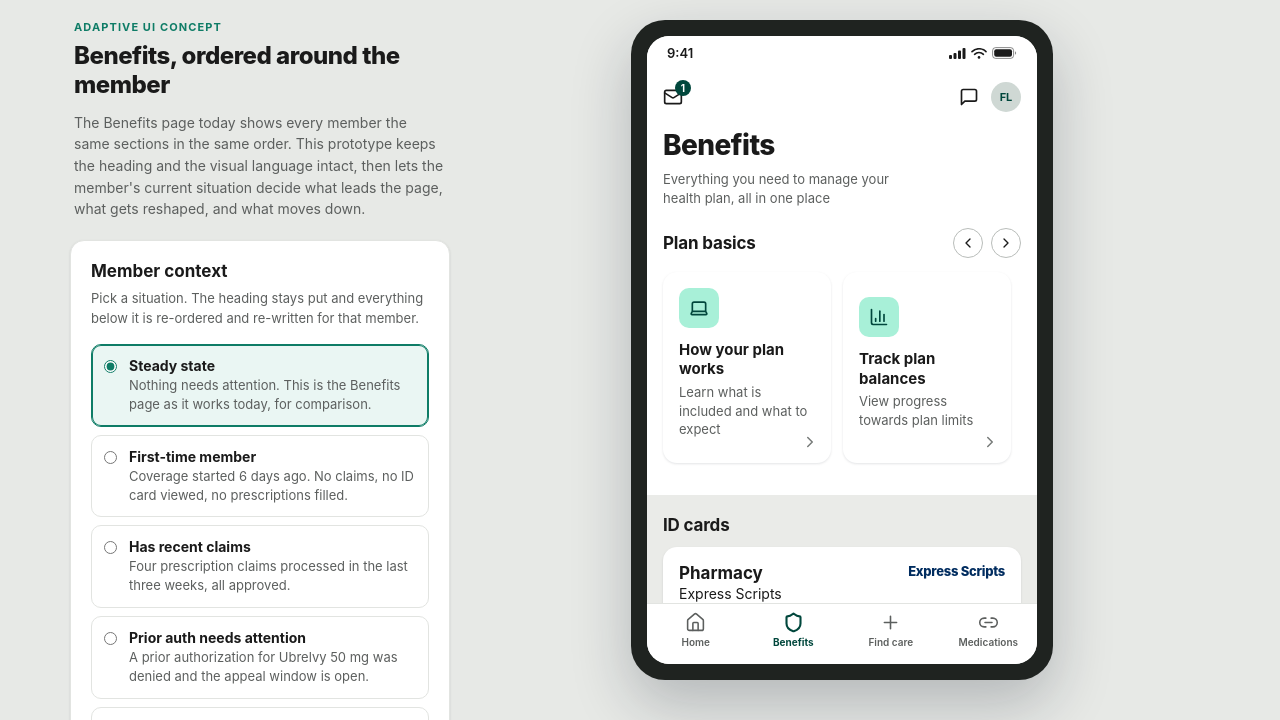
Scenario: App › shows helper text only on the next setup step for a first-time member
Click the radio button labelled "First-time member" at point(110, 457), box x1=104 y1=451 x2=117 y2=464
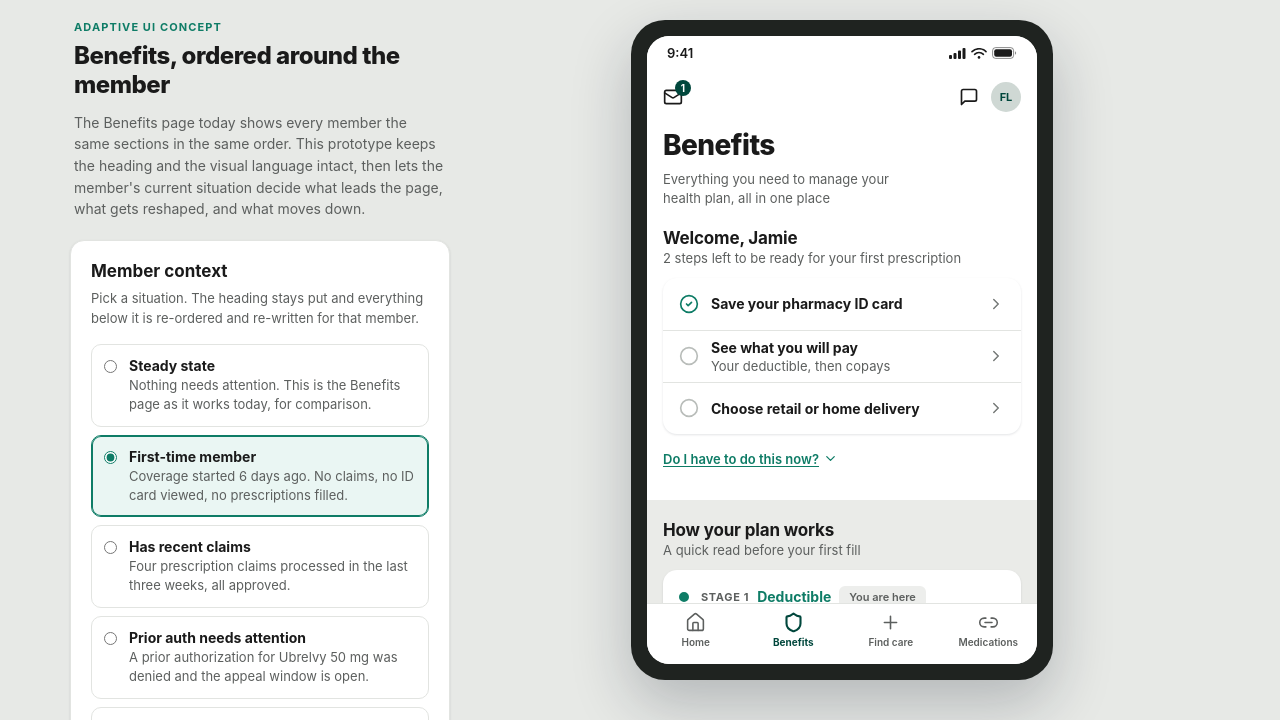
Expected: the text "skipping a step will not delay" is not shown
Expected: the text "Your deductible, then copays" is shown, x1=711 y1=358 x2=890 y2=374
Click the button "Do I have to do this now?" at point(750, 459), box x1=663 y1=442 x2=838 y2=476
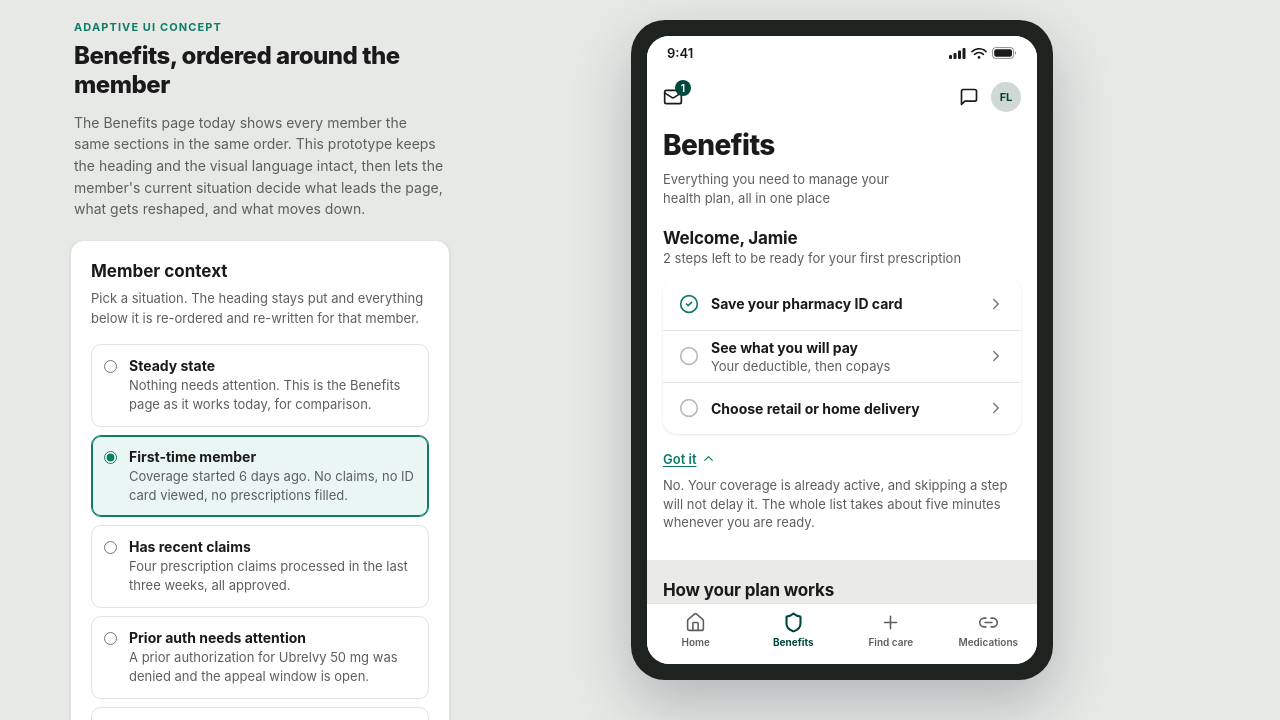
Expected: the text "skipping a step will not delay" is shown, x1=663 y1=477 x2=1007 y2=530
